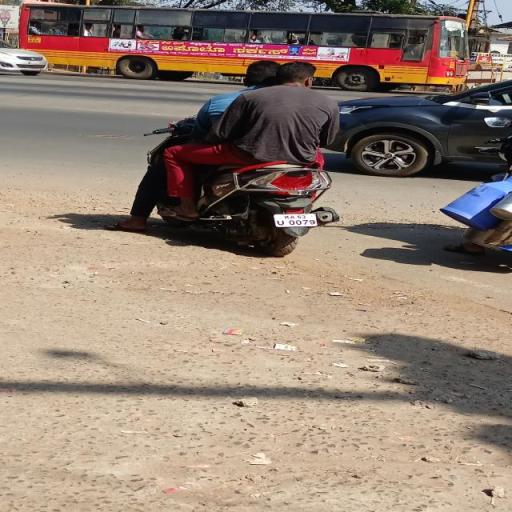bike: (124, 56, 355, 258)
numberplate: (274, 214, 320, 228)
withouthelmet: (246, 61, 278, 86), (278, 62, 314, 84)
